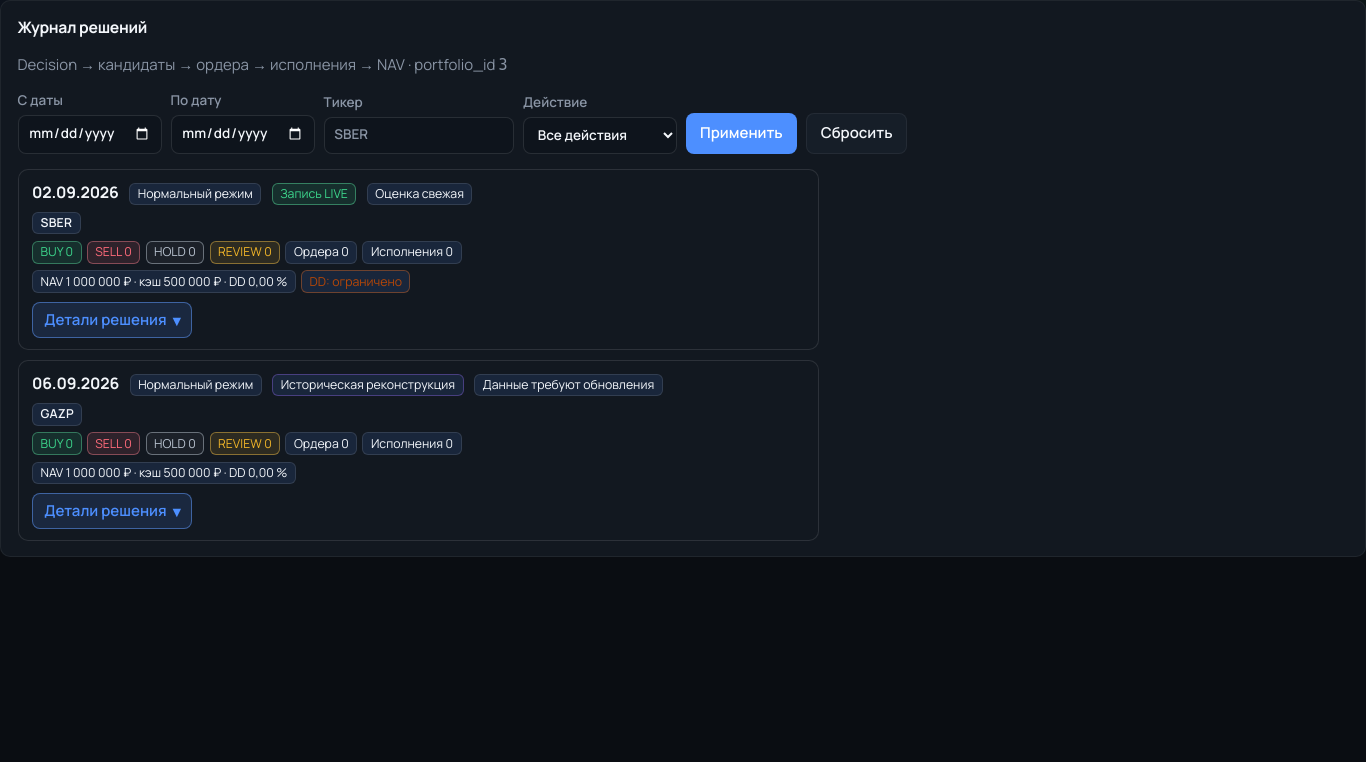
Test: DecisionJournalPanel V4 › shows DD warning and LIVE vs counterfactual only when metadata fields exist
The image size is (1366, 762).
Check: the text with test id "shadow-journal-history-kind" shows "LIVE", box x1=280 y1=185 x2=348 y2=202
Check: the text with test id "shadow-journal-valuation-freshness" shows "свежая", box x1=375 y1=185 x2=464 y2=202
Click the button with test id "shadow-journal-day-toggle" below "DD: ограничено".
click(112, 320)  # box x1=32 y1=302 x2=192 y2=338
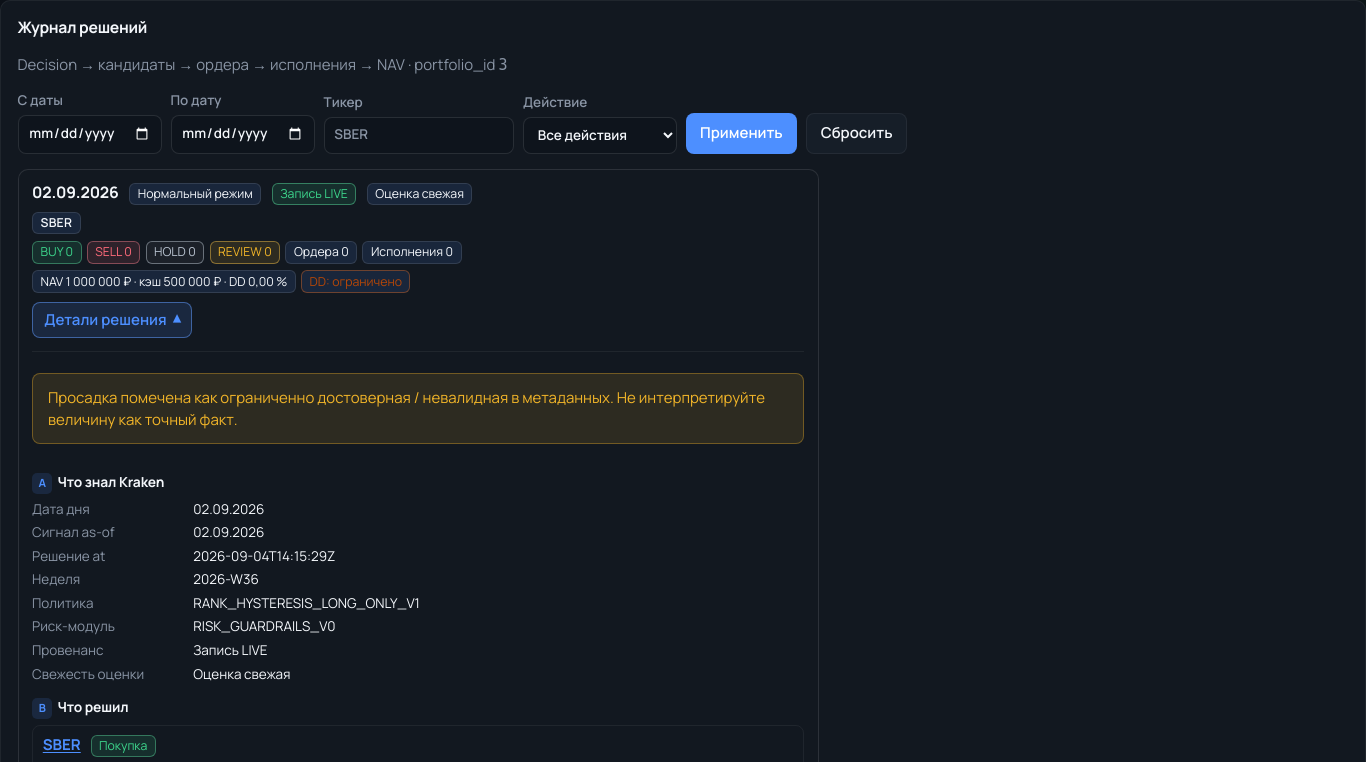
Check: the text with test id "shadow-journal-block-a-provenance" shows "LIVE", box x1=193 y1=641 x2=268 y2=659
Check: the text with test id "shadow-journal-dd-warning-body" shows "метаданных", box x1=48 y1=387 x2=765 y2=430
